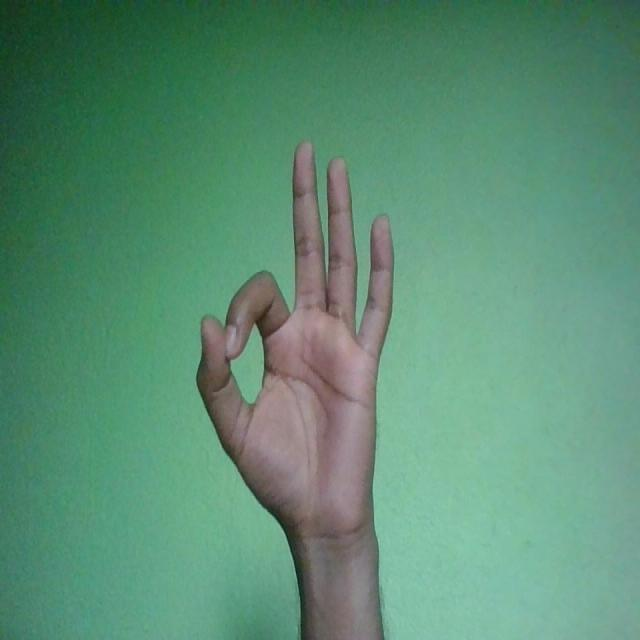Rock On: (194, 138, 394, 545)
